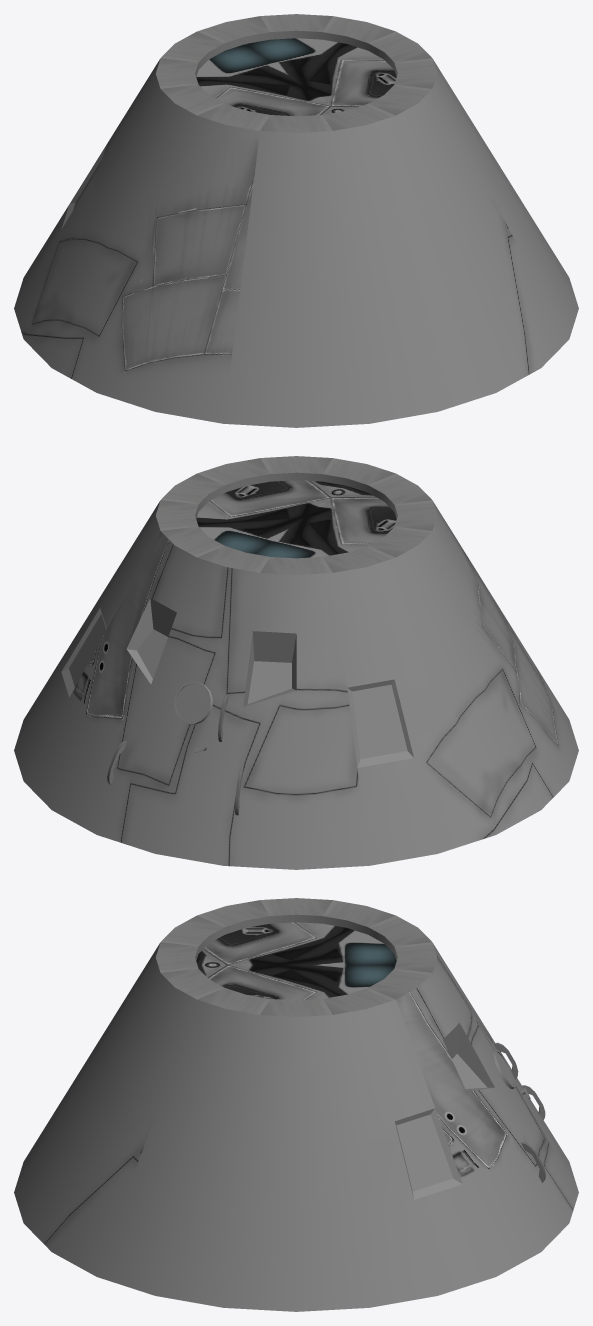
File: Apollo_Block2_Capsule_NewWindows.fbx
3 renders of one model, top to bottom at view 1: azimuth 30°, elevation 25°; view 2: azimuth 150°, elevation 25°; view 3: azimuth 270°, elevation 25°, orthographic.
Visible parts, largest first — view 1: Apollo_Capsule_NewDoor_Apollo_Capsule4; view 2: Apollo_Capsule_NewDoor_Apollo_Capsule4, polySurface38; view 3: Apollo_Capsule_NewDoor_Apollo_Capsule4, polySurface38.
Part boxes in pixels (bbox=[...]): Apollo_Capsule_NewDoor_Apollo_Capsule4: bbox=[14, 14, 578, 427]; Apollo_Capsule_NewDoor_Apollo_Capsule4: bbox=[14, 456, 578, 869]; polySurface38: bbox=[69, 614, 407, 759]; Apollo_Capsule_NewDoor_Apollo_Capsule4: bbox=[14, 898, 578, 1311]; polySurface38: bbox=[396, 1052, 513, 1191].
Bounding box in the file's own units: 2.5 × 1.15 × 2.5.
